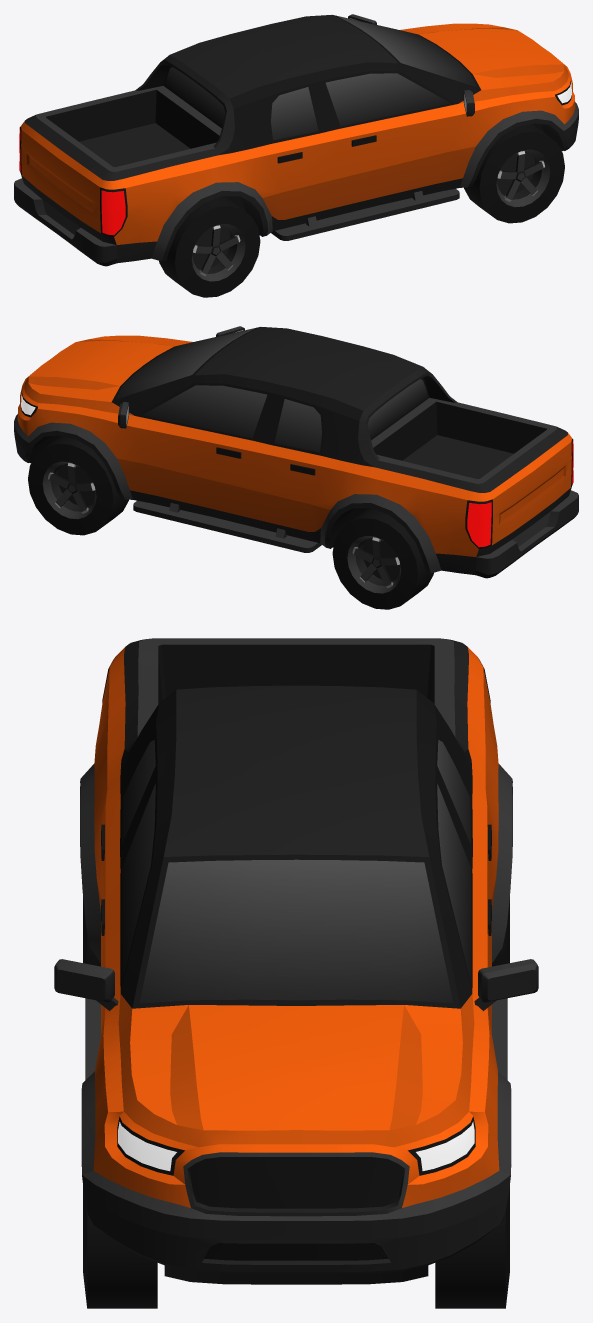
File: Car_025.glb
3 renders of one model, top to bottom at view 1: azimuth 30°, elevation 25°; view 2: azimuth 150°, elevation 25°; view 3: azimuth 270°, elevation 25°, orthographic. The views are drawn at different scales.
Visible parts, largest first — view 1: Car_025, wheel_3_Car_025_Wheel_2R, wheel_1_Car_025_Wheel_1R; view 2: Car_025, wheel_2_Car_025_Wheel_2L, wheel_0_Car_025_Wheel_1L; view 3: Car_025, wheel_0_Car_025_Wheel_1L, wheel_1_Car_025_Wheel_1R.
Boxes of the visible parts, x1=… form: Car_025: x1=14, y1=14, x2=578, y2=266; wheel_3_Car_025_Wheel_2R: x1=159, y1=196, x2=260, y2=297; wheel_1_Car_025_Wheel_1R: x1=464, y1=124, x2=564, y2=223; Car_025: x1=14, y1=326, x2=578, y2=578; wheel_2_Car_025_Wheel_2L: x1=332, y1=508, x2=433, y2=609; wheel_0_Car_025_Wheel_1L: x1=28, y1=436, x2=128, y2=535; Car_025: x1=54, y1=638, x2=538, y2=1284; wheel_0_Car_025_Wheel_1L: x1=435, y1=1185, x2=509, y2=1308; wheel_1_Car_025_Wheel_1R: x1=83, y1=1185, x2=157, y2=1308.
Size of the model in its own units: 5.31 by 1.85 by 2.23.
2 materials, 2 textured.
